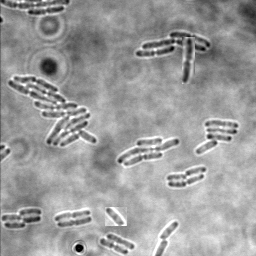Dividing: (182, 37, 195, 84), (167, 175, 204, 189), (99, 238, 128, 255), (54, 209, 90, 222), (56, 217, 92, 228), (27, 7, 64, 17)
Microcolony: (7, 76, 98, 147), (117, 137, 180, 168), (135, 32, 211, 57), (195, 120, 238, 155), (1, 208, 42, 229)
Rod: (106, 233, 135, 251), (105, 207, 127, 226), (157, 222, 178, 240), (184, 167, 206, 177), (166, 174, 187, 183)
